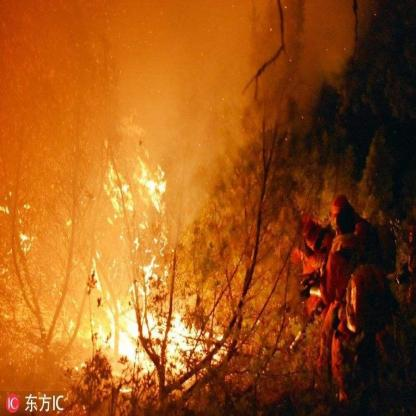fire: (78, 145, 222, 375), (1, 185, 73, 277)
